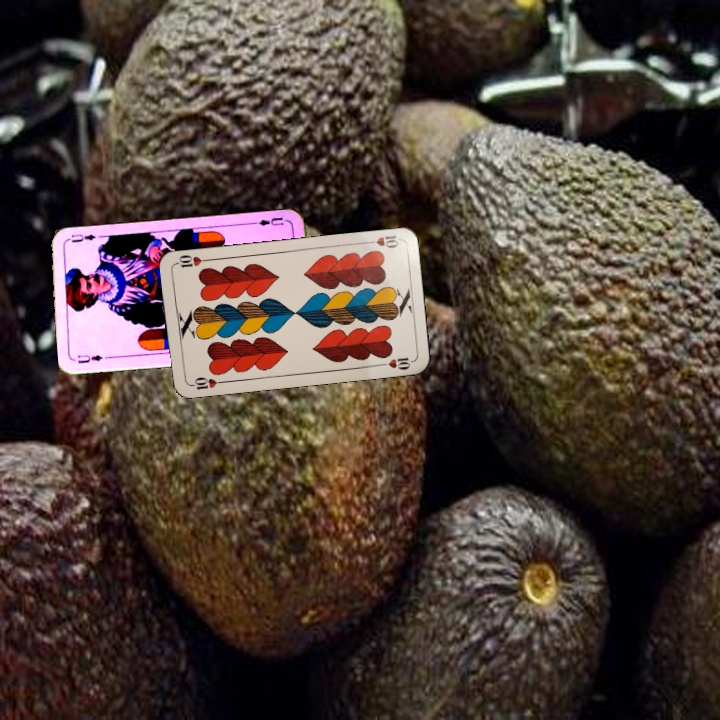EU: (74, 351, 113, 366), (251, 213, 286, 229)
H10: (361, 231, 402, 251), (186, 373, 227, 392)
